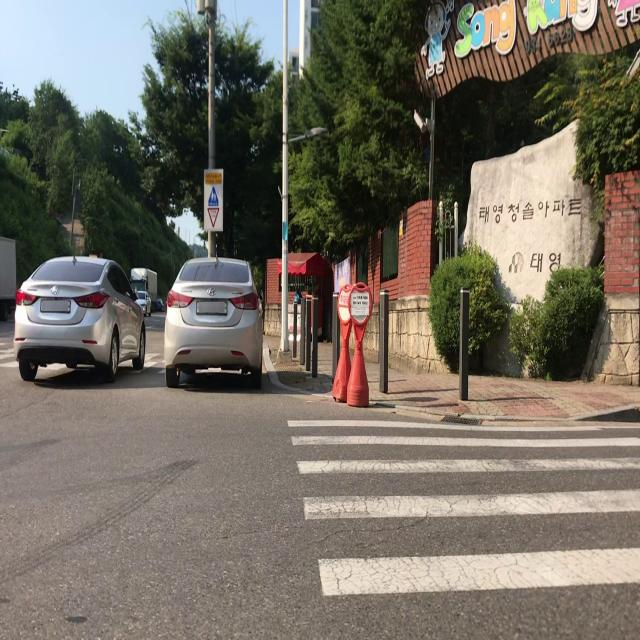횡단보도: (284, 415, 640, 602)
